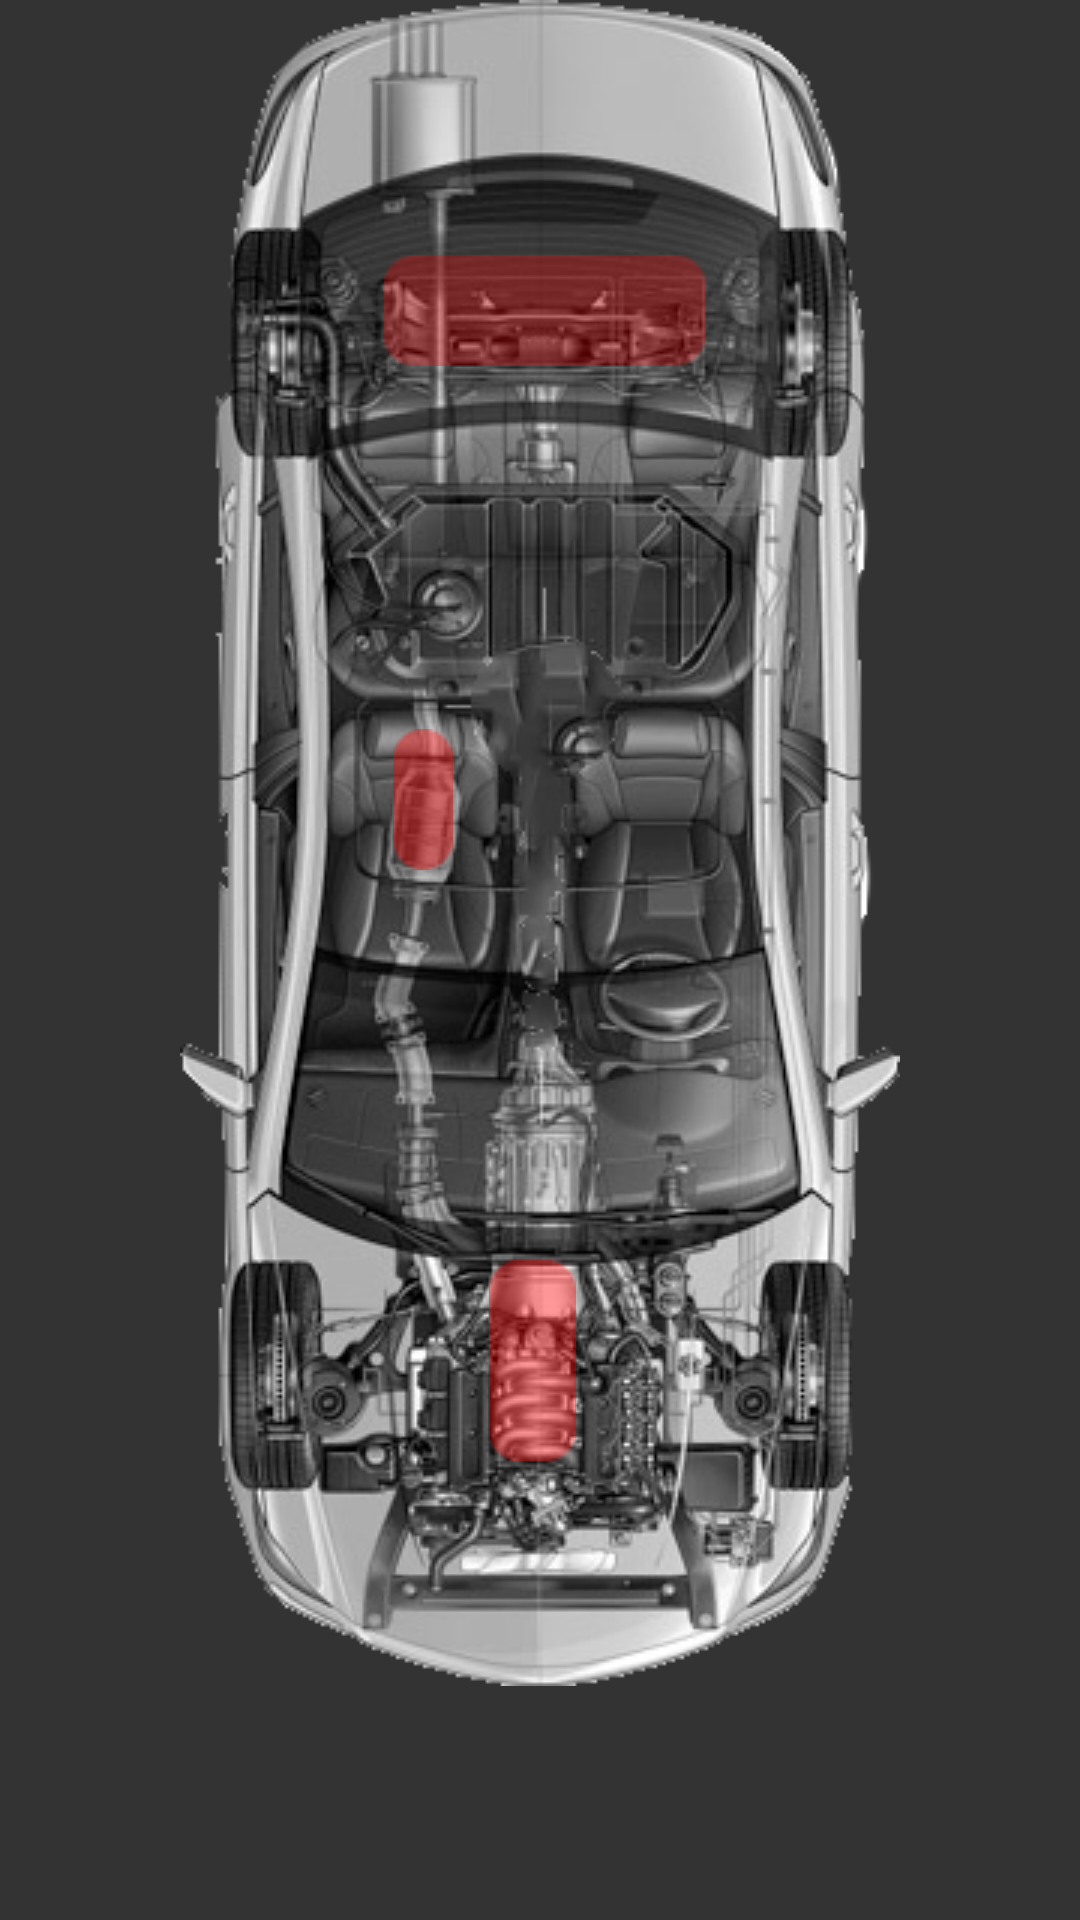

Where to tap for icons on this 1080×1920 app screen, as [x,y]:
motor notif: [532,1360]
